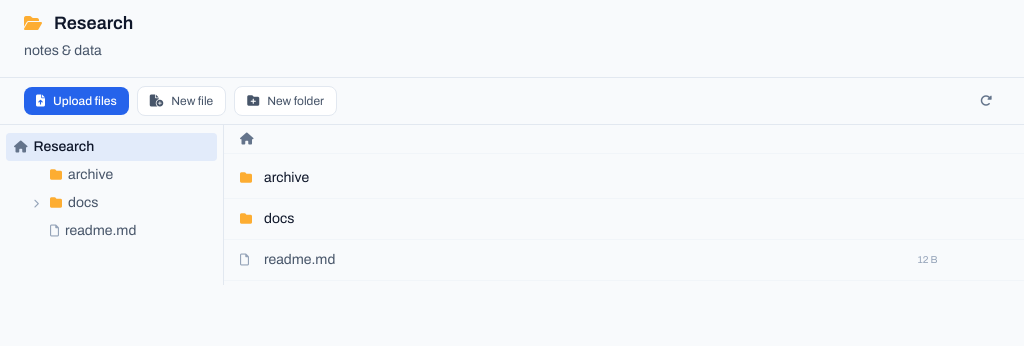
ProjectPage explorer layout › surfaces API errors
Expected: the element with test id "file-row-readme.md" is shown, [224,240,1023,281]
Click the button "New folder" at [286, 101], box [234,86,337,116]
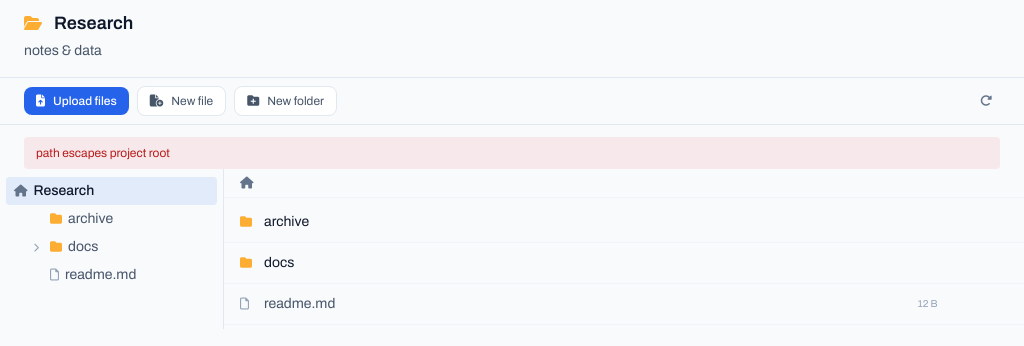
Result: the text "path escapes project root" is shown at [24,137,1000,169]
